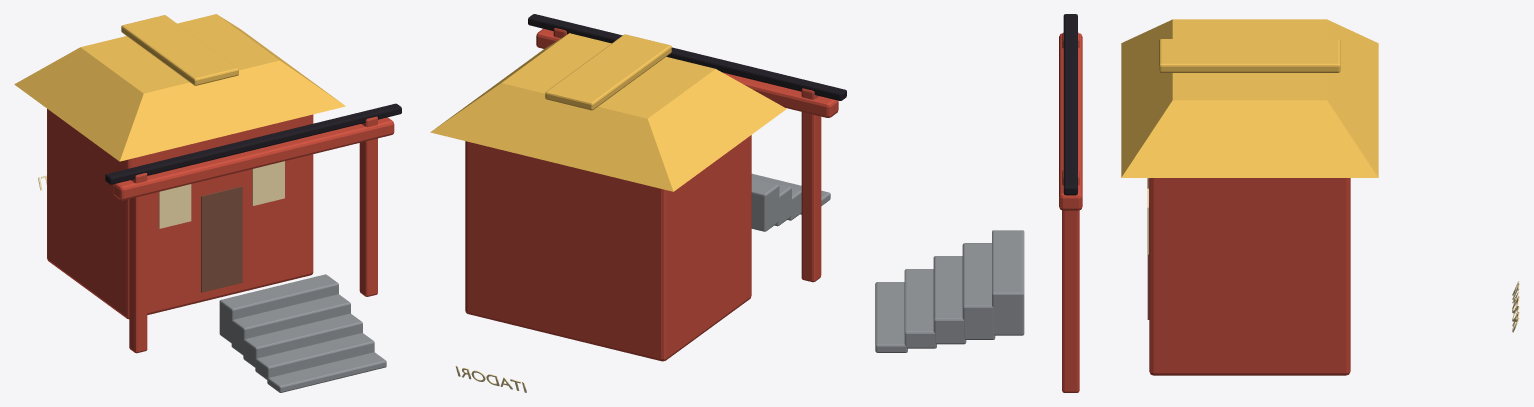
The model's file is 10_itadori.glb.
3 views of the same model, side by side, from view 1: azimuth 30°, elevation 25°; view 2: azimuth 150°, elevation 25°; view 3: azimuth 270°, elevation 25° (orthographic). The views are drawn at different scales.
Visible parts, largest first — view 1: impact_hall_body; view 2: impact_hall_body, ItadoriLabel; view 3: impact_hall_body.
Part boxes in pixels (x1=…): impact_hall_body: x1=14, y1=14, x2=401, y2=392; impact_hall_body: x1=430, y1=14, x2=846, y2=361; ItadoriLabel: x1=455, y1=366, x2=526, y2=392; impact_hall_body: x1=875, y1=14, x2=1378, y2=392.
Bounding box in the file's own units: 7.35 × 5.33 × 11.51.
